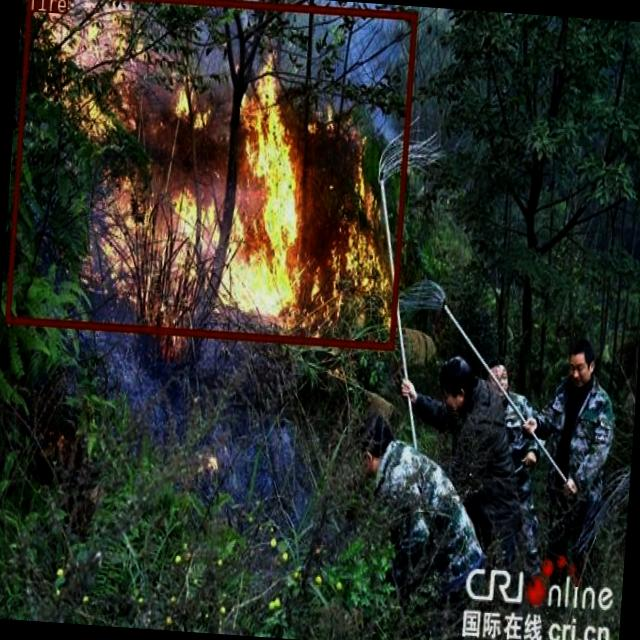fire: (3, 0, 416, 349)
